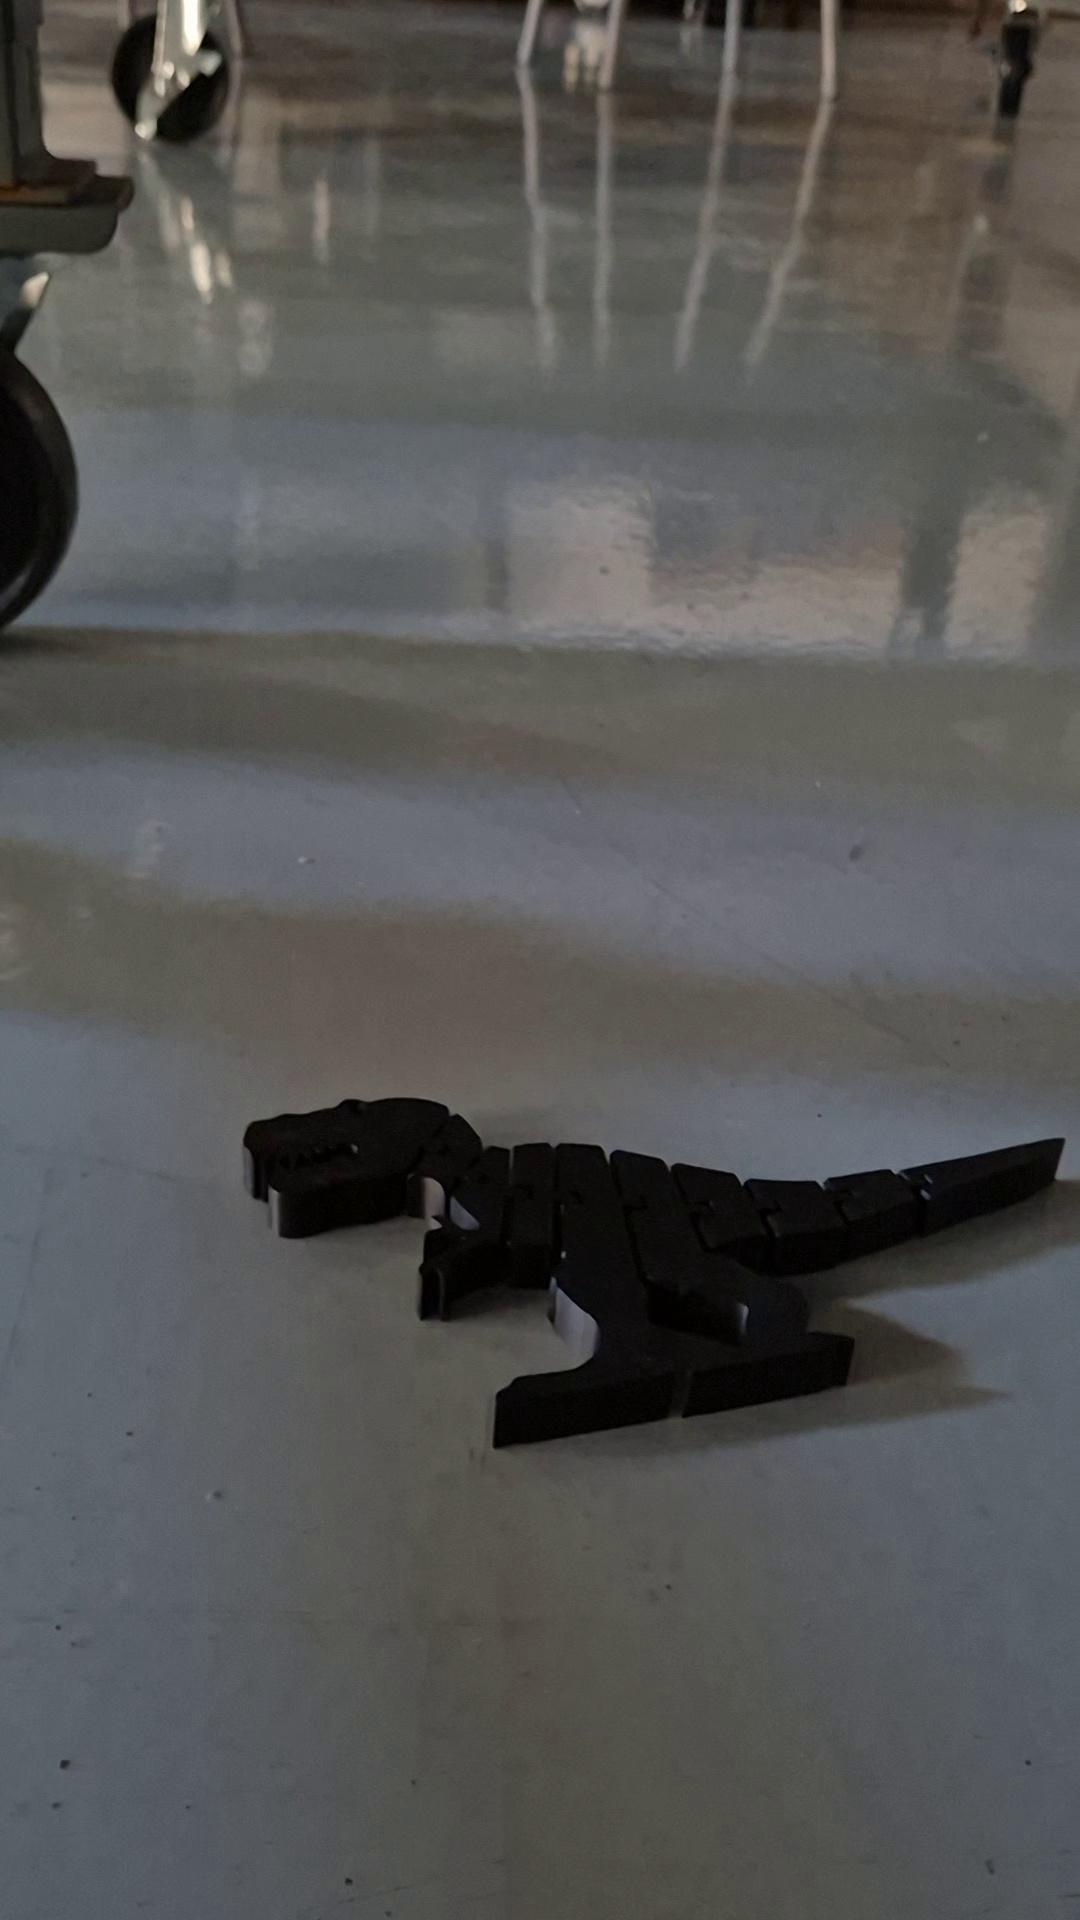dinosaur: (238, 1093, 1069, 1454)
